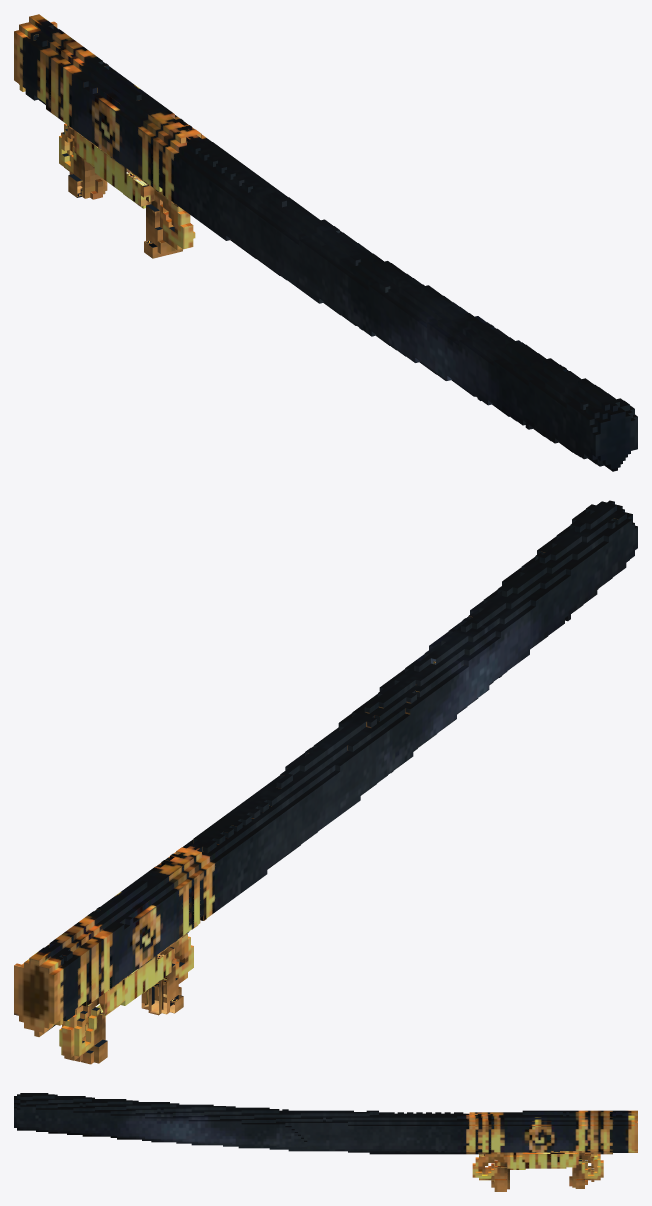
File: voxel_shotogatana_sheath.obj
3 renders of one model, top to bottom at view 1: azimuth 30°, elevation 25°; view 2: azimuth 150°, elevation 25°; view 3: azimuth 270°, elevation 25°, orthographic. The views are drawn at different scales.
Parts seen in each view (by area): view 1: Sheath2; view 2: Sheath2; view 3: Sheath2.
Part boxes in pixels (box(x1,y1,x2,y2)): Sheath2: box(14, 14, 637, 471); Sheath2: box(14, 500, 637, 1064); Sheath2: box(14, 1093, 637, 1191).
Size of the model in its own units: 0.1085 by 0.399 by 2.41.
